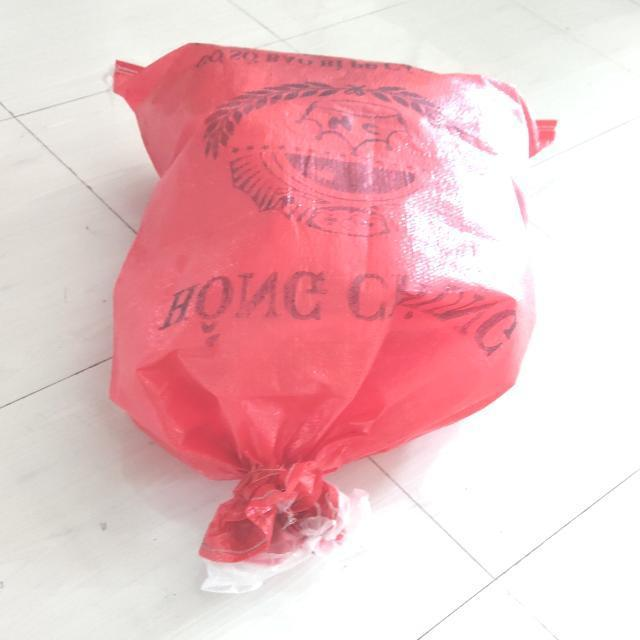gunny_bag: (109, 44, 558, 594)
